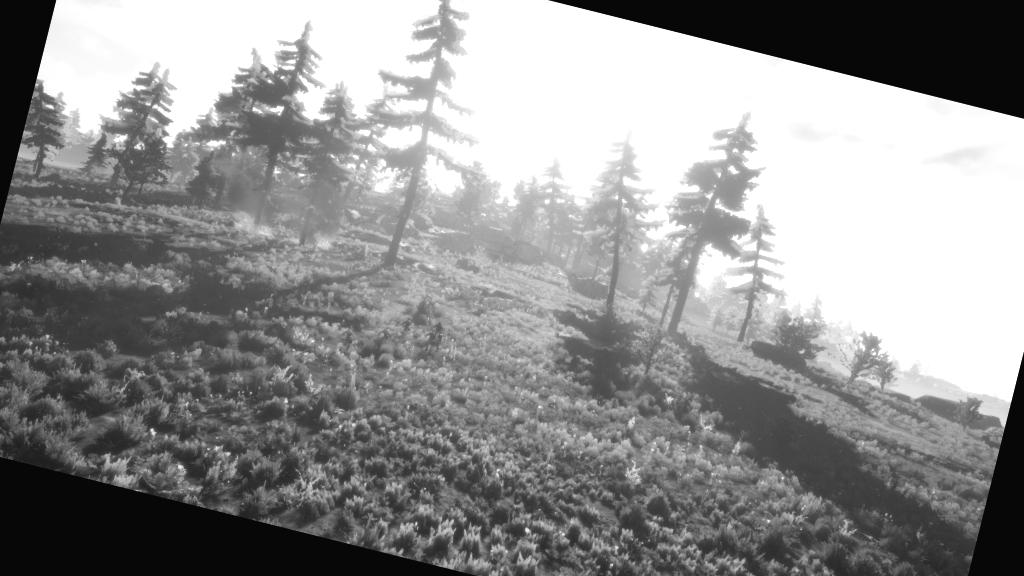Fire: (282, 212, 356, 262), (219, 194, 283, 245)
human: (414, 314, 456, 364), (364, 315, 396, 356), (333, 318, 365, 358), (393, 313, 422, 351)
